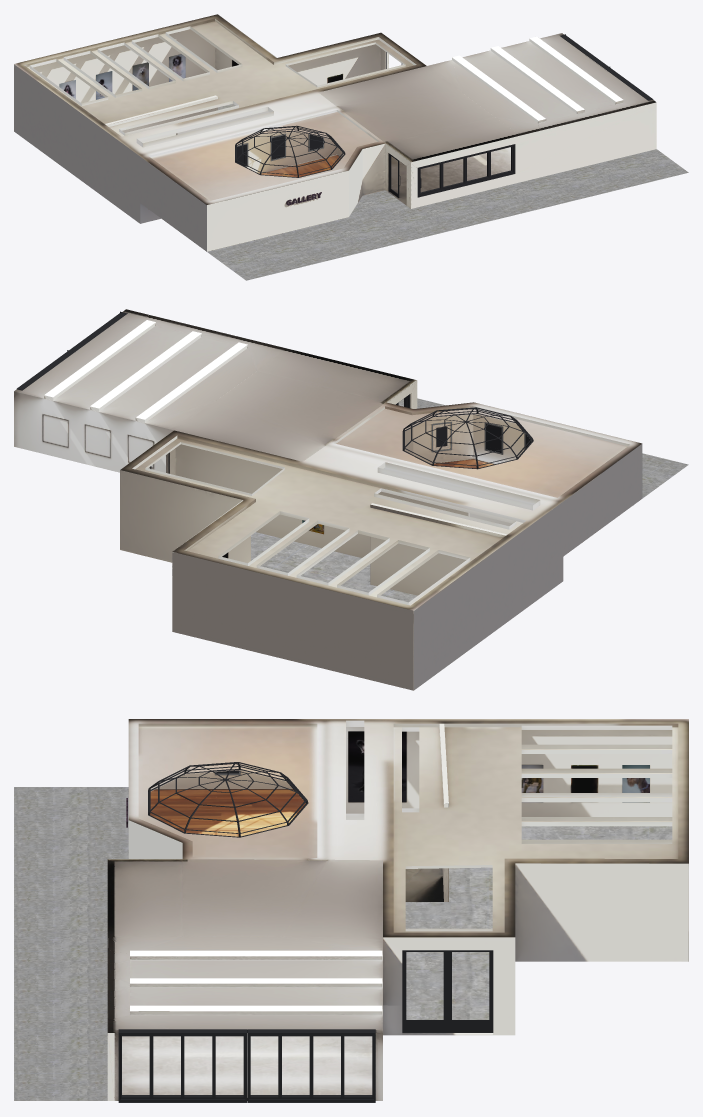
Rendered from art-gallery4.glb.
3 renders of one model, top to bottom at view 1: azimuth 30°, elevation 25°; view 2: azimuth 150°, elevation 25°; view 3: azimuth 270°, elevation 25°, orthographic. The views are drawn at different scales.
Parts seen in each view (by area): view 1: ParedesPrincipais, Paredes, Teto.001, Chao_fora, Chao_entrada, Todos os quadros, Sphere.002, Janelas_entrada, Chao_madeira; view 2: Paredes, Teto.001, ParedesPrincipais, Chao_inferior, Sphere.002, Chao_fora, Todos os quadros; view 3: Teto.001, ParedesPrincipais, Paredes, Chao_fora, Chao_entrada, Chao_inferior, Chao_madeira, Janelas, Janelas.001, Sphere.002, Todos os quadros, Janelas_andar_inferior.
Boxes of the visible parts, bbox=[...] form: ParedesPrincipais: bbox=[318, 33, 656, 208]; Paredes: bbox=[14, 21, 410, 251]; Teto.001: bbox=[14, 14, 426, 204]; Chao_fora: bbox=[207, 149, 688, 280]; Chao_entrada: bbox=[338, 147, 510, 205]; Todos os quadros: bbox=[59, 54, 389, 202]; Sphere.002: bbox=[235, 125, 345, 177]; Janelas_entrada: bbox=[417, 144, 515, 197]; Chao_madeira: bbox=[261, 155, 340, 177]; Paredes: bbox=[120, 380, 642, 690]; Teto.001: bbox=[120, 402, 641, 610]; ParedesPrincipais: bbox=[14, 309, 417, 472]; Chao_inferior: bbox=[251, 532, 417, 602]; Sphere.002: bbox=[402, 407, 533, 469]; Chao_fora: bbox=[398, 398, 688, 498]; Todos os quadros: bbox=[302, 394, 531, 534]; Teto.001: bbox=[128, 719, 688, 937]; ParedesPrincipais: bbox=[107, 859, 382, 1100]; Paredes: bbox=[108, 723, 688, 1035]; Chao_fora: bbox=[14, 787, 128, 1100]; Chao_entrada: bbox=[122, 868, 443, 1100]; Chao_inferior: bbox=[405, 826, 672, 1019]; Chao_madeira: bbox=[150, 789, 305, 836]; Janelas: bbox=[247, 1029, 375, 1102]; Janelas.001: bbox=[118, 1029, 246, 1102]; Sphere.002: bbox=[148, 762, 308, 837]; Todos os quadros: bbox=[126, 731, 649, 818]; Janelas_andar_inferior: bbox=[402, 950, 493, 1032].
Size of what is drawn, in the model's own units: 62.24 by 11.01 by 56.35.
Materials: 30 (20 with a texture image).
